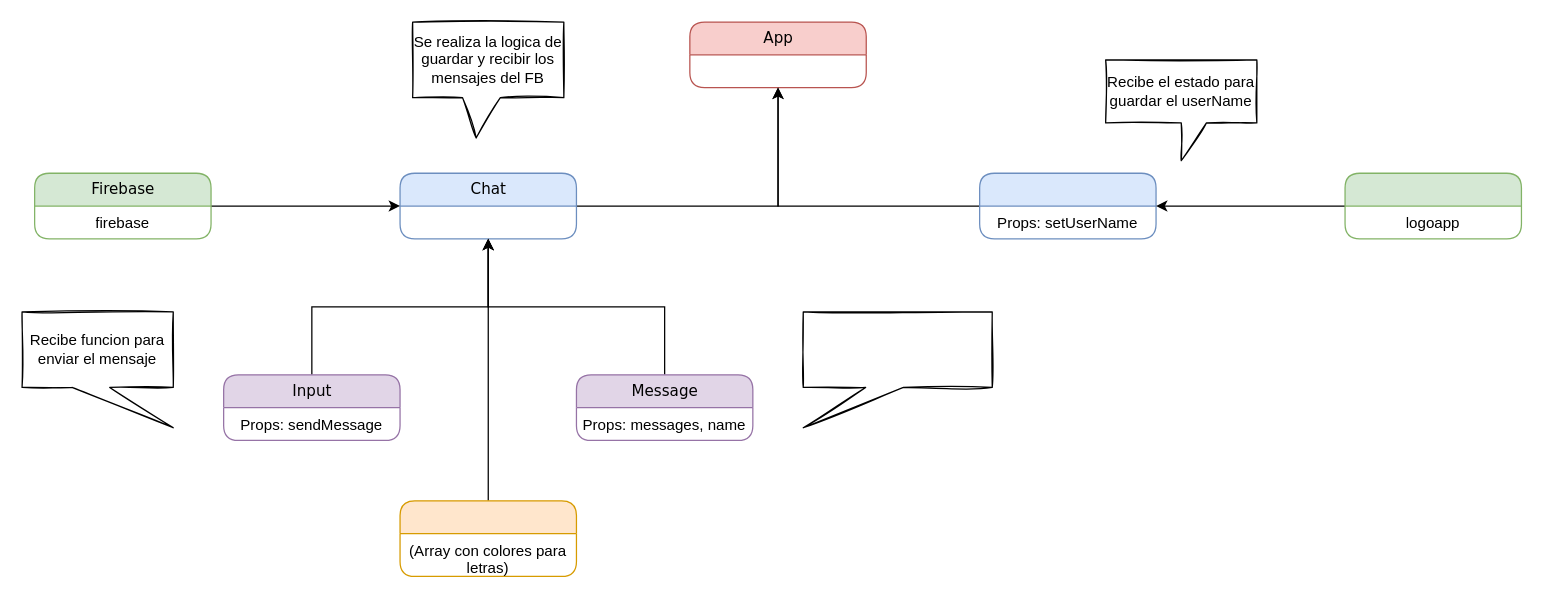
This 1544x602 diagram has some shape labels left out. The box of each missing label's shape, as (x1, y1, x2, y2) in pixels:
ChatLogo: (1344, 172, 1521, 239)
LetterColors: (399, 500, 576, 576)
Loguin: (978, 172, 1156, 239)
recibe hook del contenido del mensaje y nombre del usuario: (802, 311, 992, 428)
